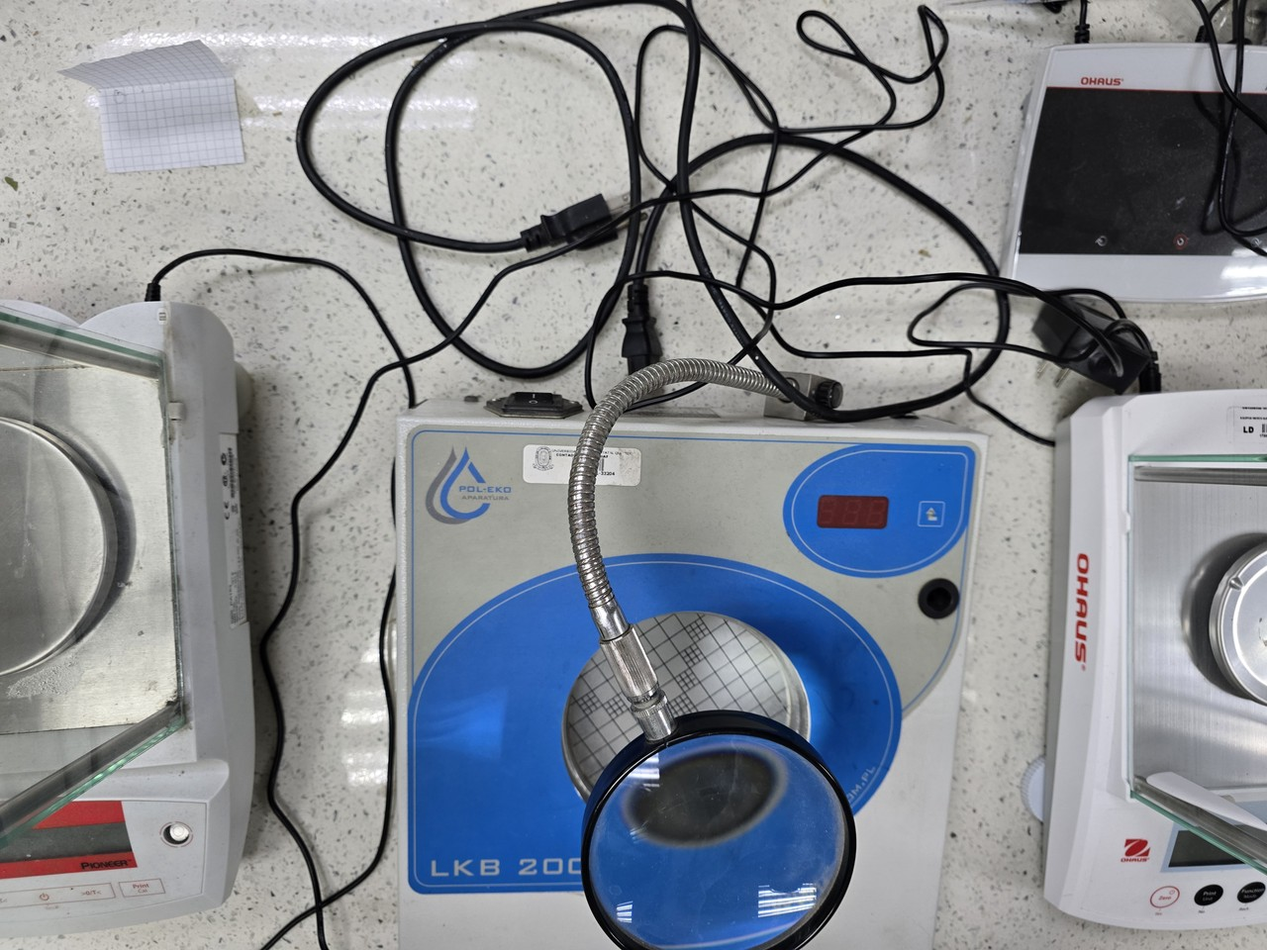contador_de_colonias: (375, 299, 1001, 950)
